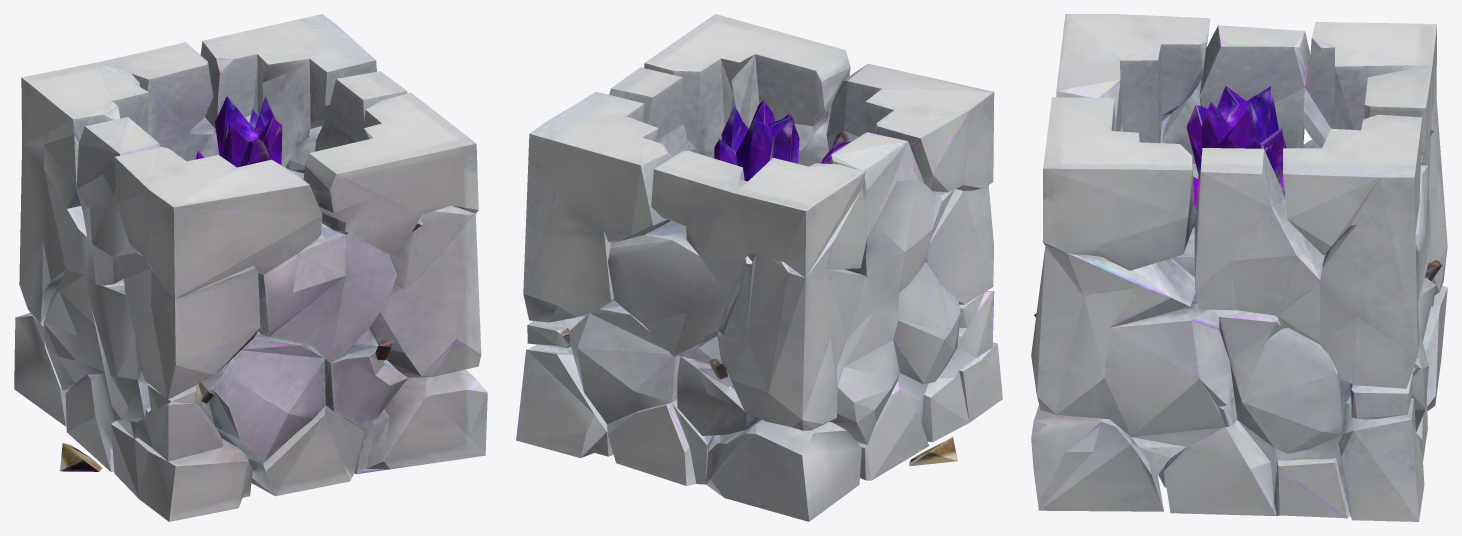
File: wall_caves.glb
The picture shows the model from 3 angles, left to right: view 1: azimuth 30°, elevation 25°; view 2: azimuth 150°, elevation 25°; view 3: azimuth 270°, elevation 25°; orthographic projection. The views are drawn at different scales.
Bounding box in the file's own units: 1.89 × 1.6 × 1.75.
Materials: 1 (1 with a texture image).
